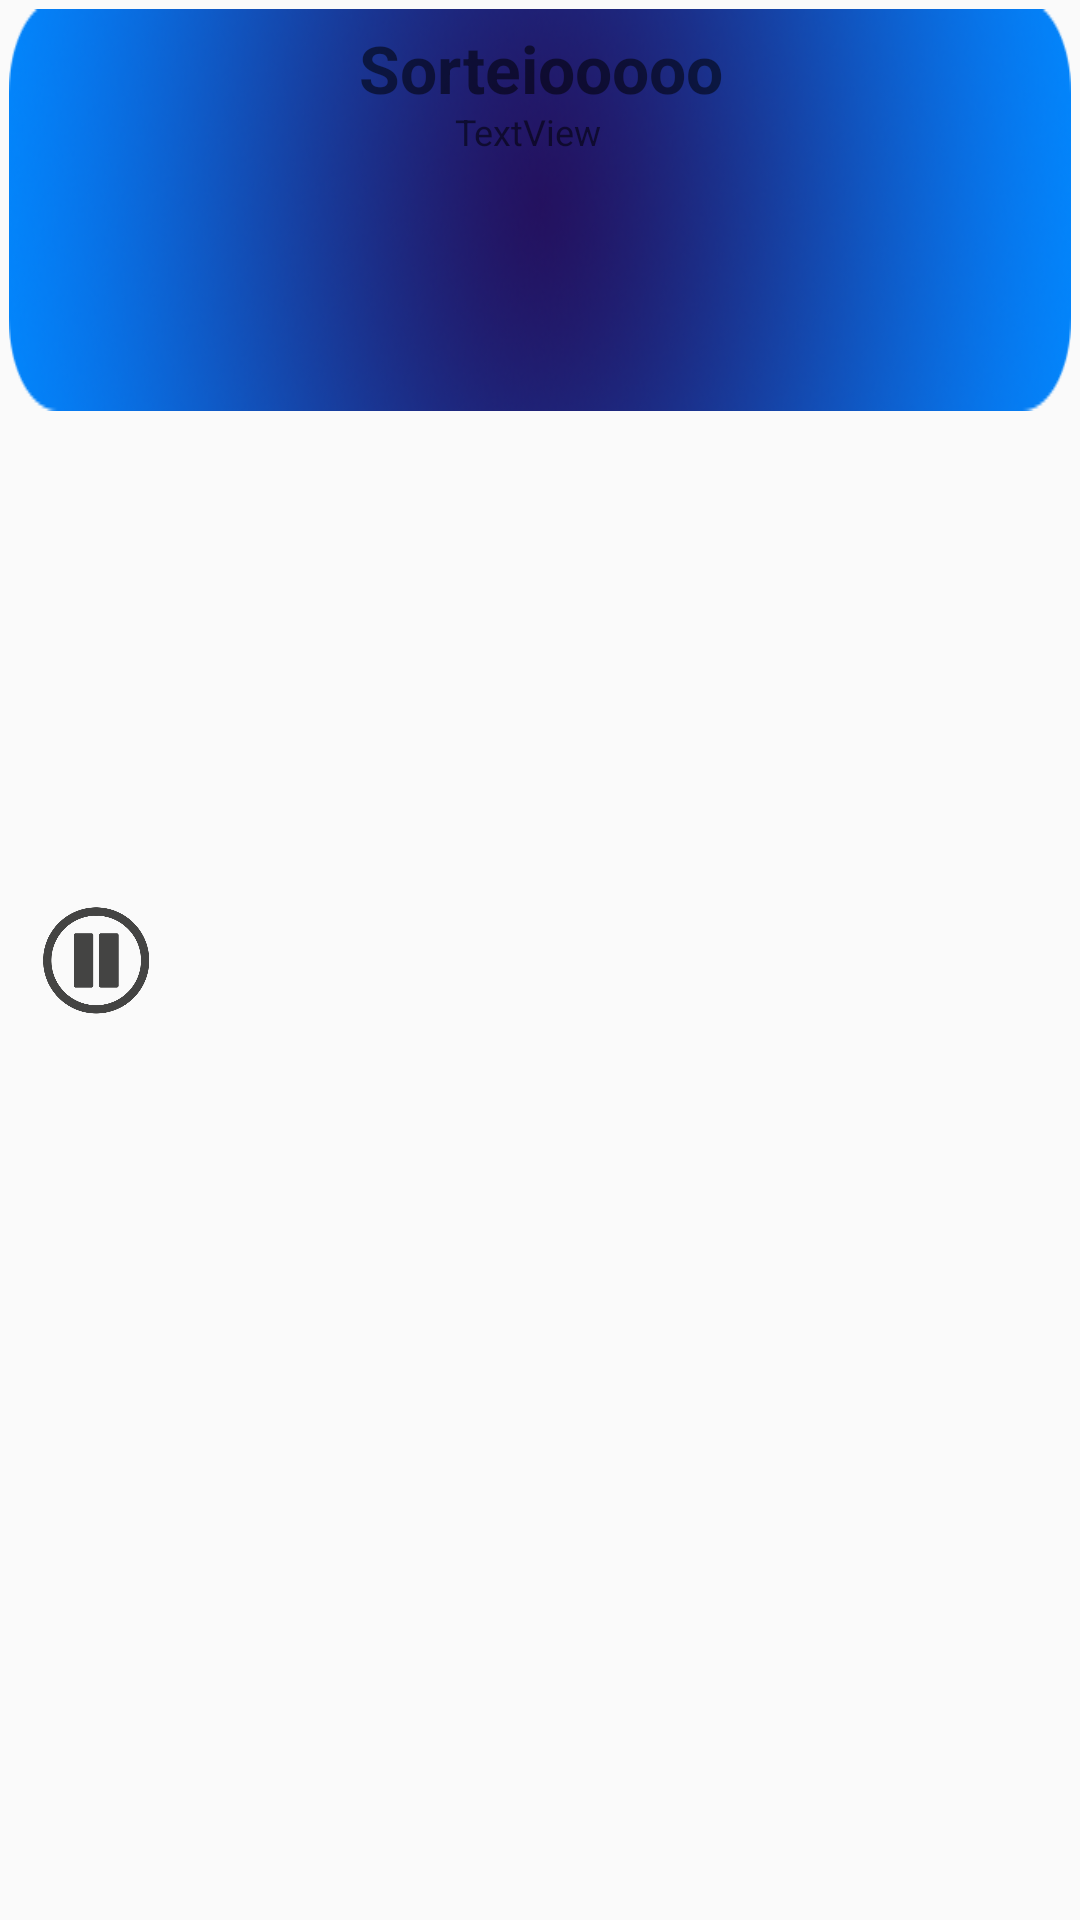

Where to tap for icons on this 1080x1920 app screen, as point (x, y):
pause: point (96, 960)
